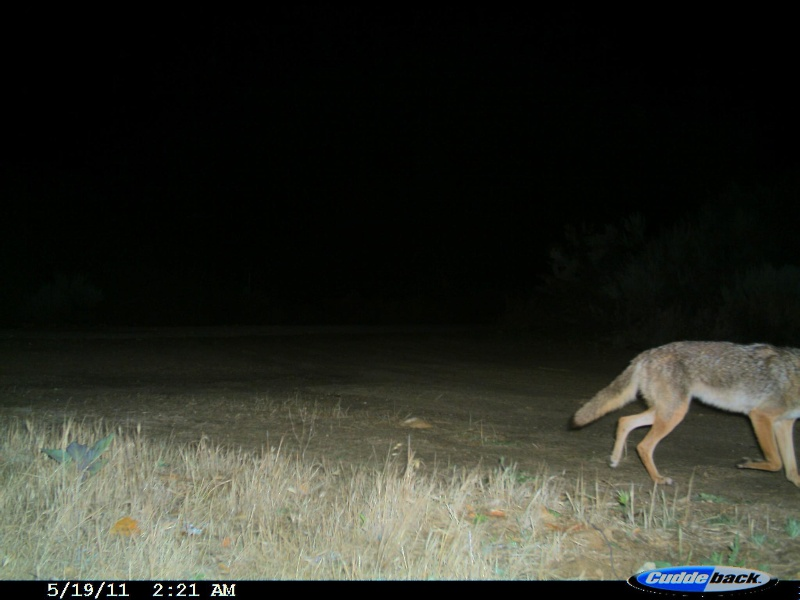coyote: (565, 335, 800, 498)
